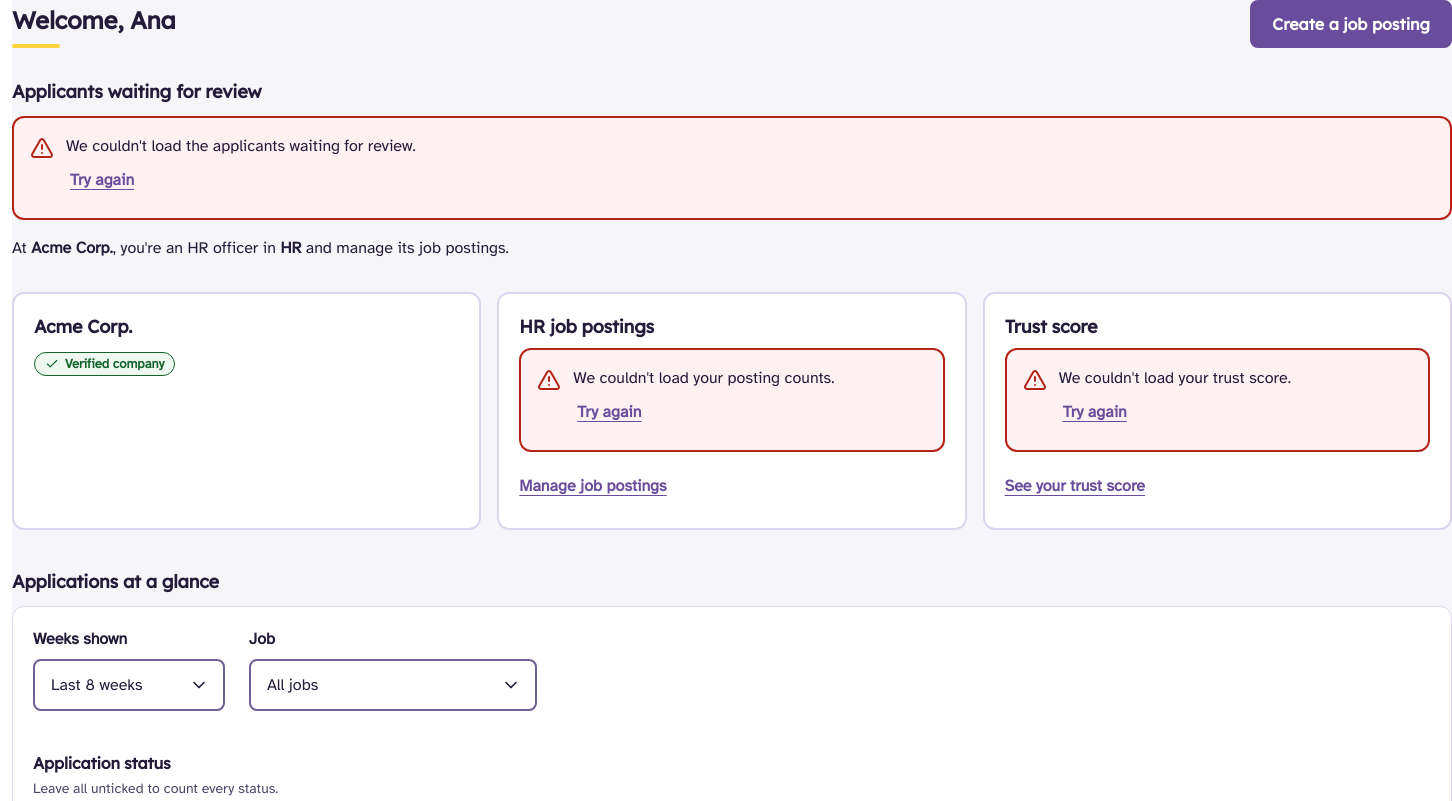
Scenario: EmployerDashboard › says when the applicants waiting for review could not be loaded
The image size is (1452, 801).
Expected: the text "We couldn't load the applicants waiting for review." is shown, x1=66 y1=134 x2=416 y2=158
Click the 1st button "Try again" at (102, 180), box x1=66 y1=158 x2=138 y2=202
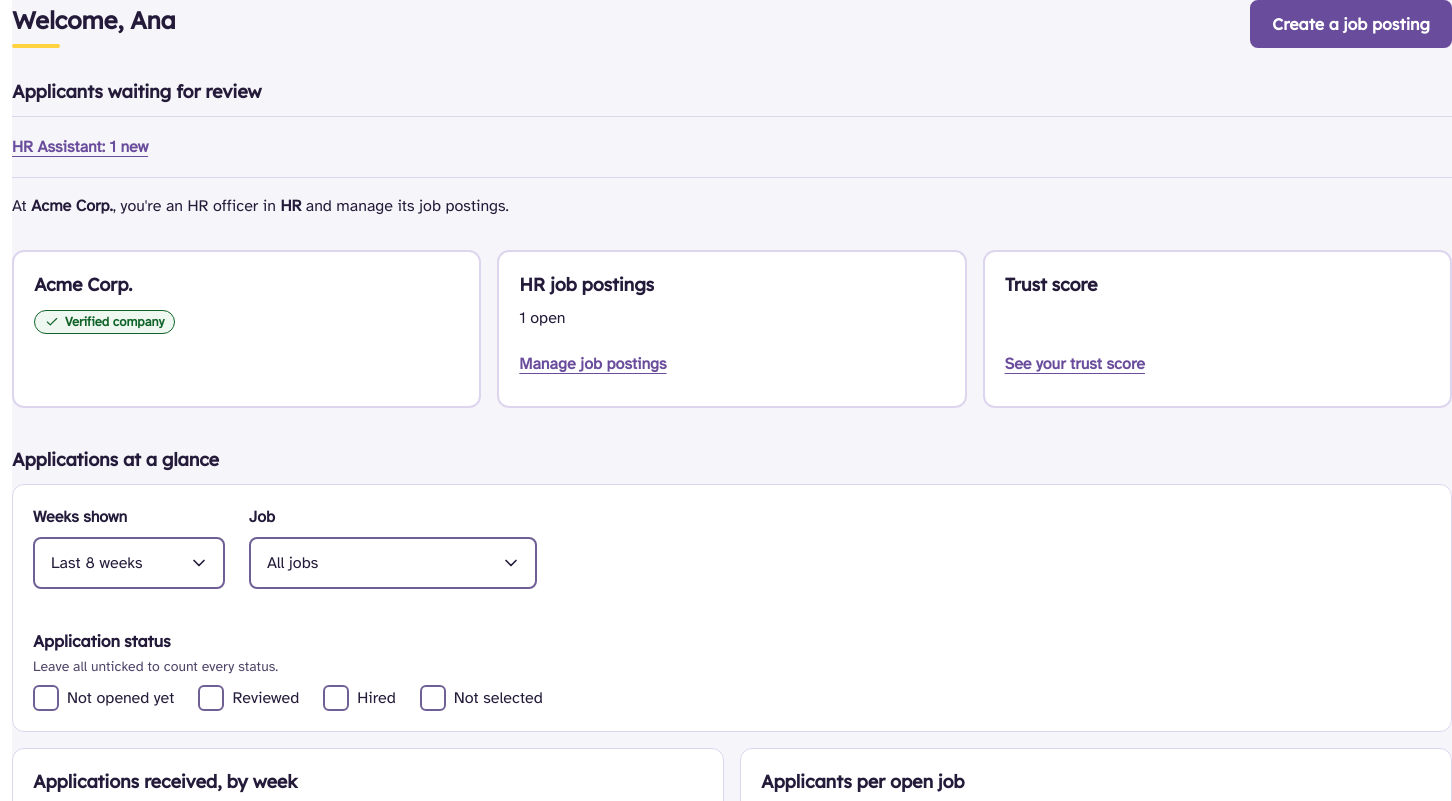
Expected: the link "HR Assistant: 1 new" is shown, x1=12 y1=137 x2=148 y2=157
